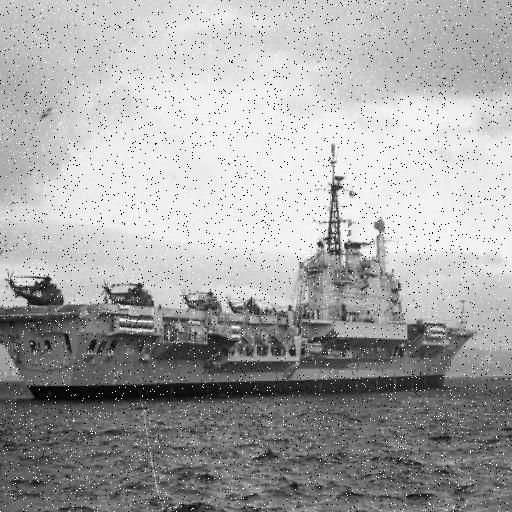Portanaves: (1, 138, 484, 398)
